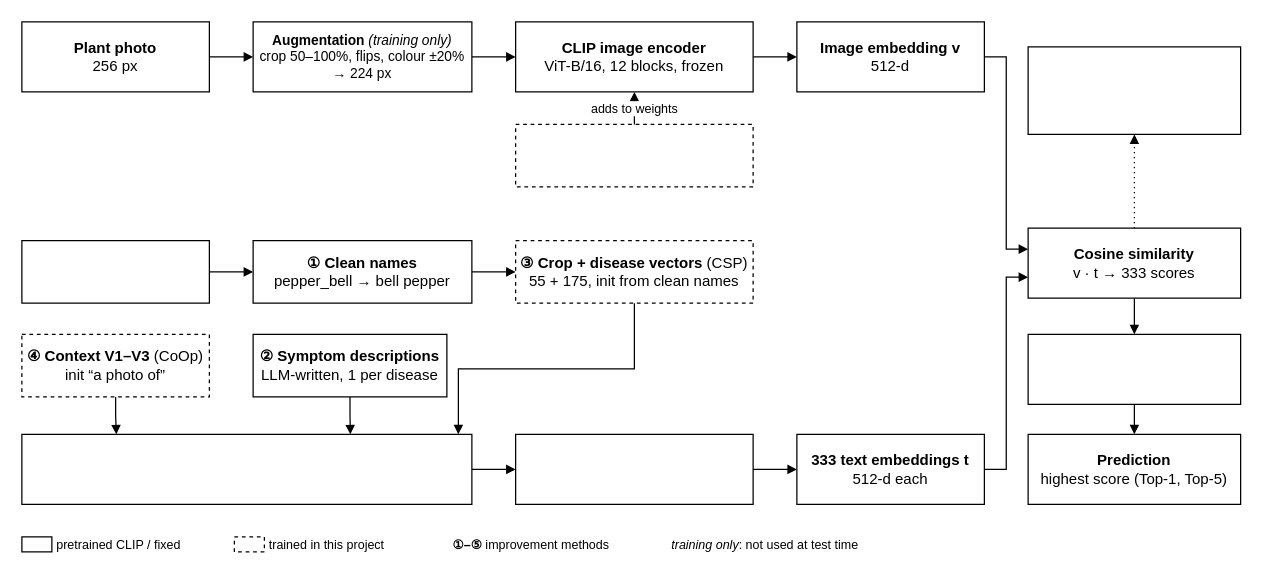
This 1263x576 diagram has some shape labels left out. Here are the shapes that lost their labels. From the top down, the box of each, then its label:
(1027, 46, 1241, 134): Loss (training only) cross-entropy: pair 1 + crop 0.5 + disease 0.5
(514, 123, 753, 187): ⑤ LoRA adapters blocks 5–12, rank 16, 1.57M
(21, 239, 209, 303): Dataset labels 55 crops, 175 diseases
(1027, 333, 1241, 404): Calibration seen-pair scores − γ
(21, 433, 472, 504): 333 pair prompts [V1 V2 V3] [CROP] leaves with [DISEASE]: {symptoms}.
(514, 433, 753, 504): CLIP text encoder 12 blocks, frozen
